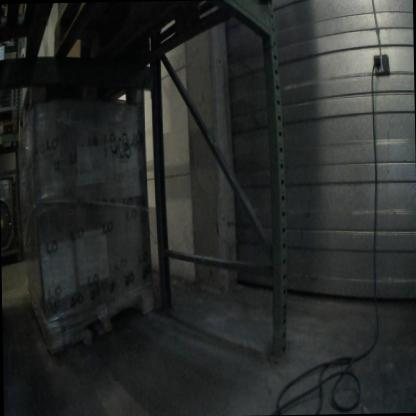pallet: (48, 0, 273, 70), (25, 275, 160, 364), (0, 4, 44, 60), (0, 120, 23, 157)
stillage: (0, 172, 20, 264), (0, 73, 21, 119)
